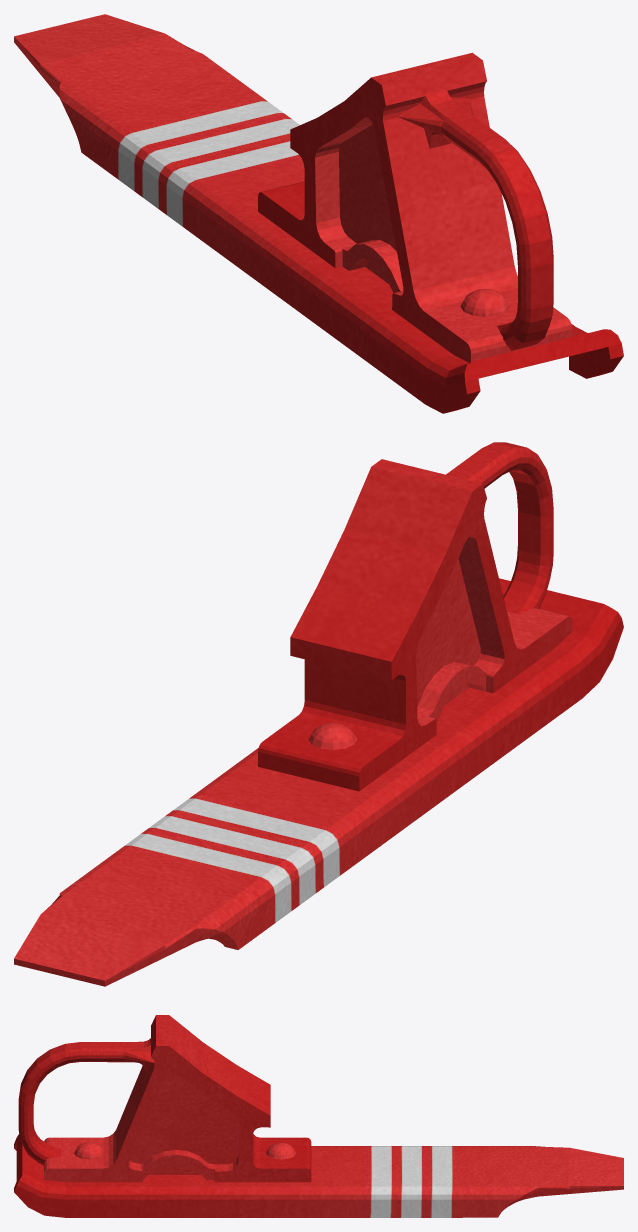
The model's file is railskid.gltf.
3 views of the same model, one above another, from view 1: azimuth 30°, elevation 25°; view 2: azimuth 150°, elevation 25°; view 3: azimuth 270°, elevation 25° (orthographic). The views are drawn at different scales.
Parts seen in each view (by area): view 1: Railskid; view 2: Railskid; view 3: Railskid.
Part boxes in pixels (<box>): Railskid: <box>14,14,623,413</box>; Railskid: <box>14,442,623,986</box>; Railskid: <box>14,1015,623,1217</box>.
Size of the model in its own units: 0.093 by 0.1475 by 0.499.
Materials: 1 (1 with a texture image).
